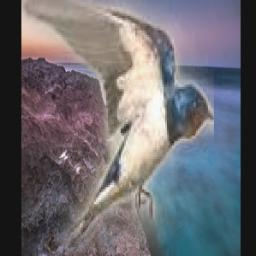Swallow: (24, 0, 215, 256)
